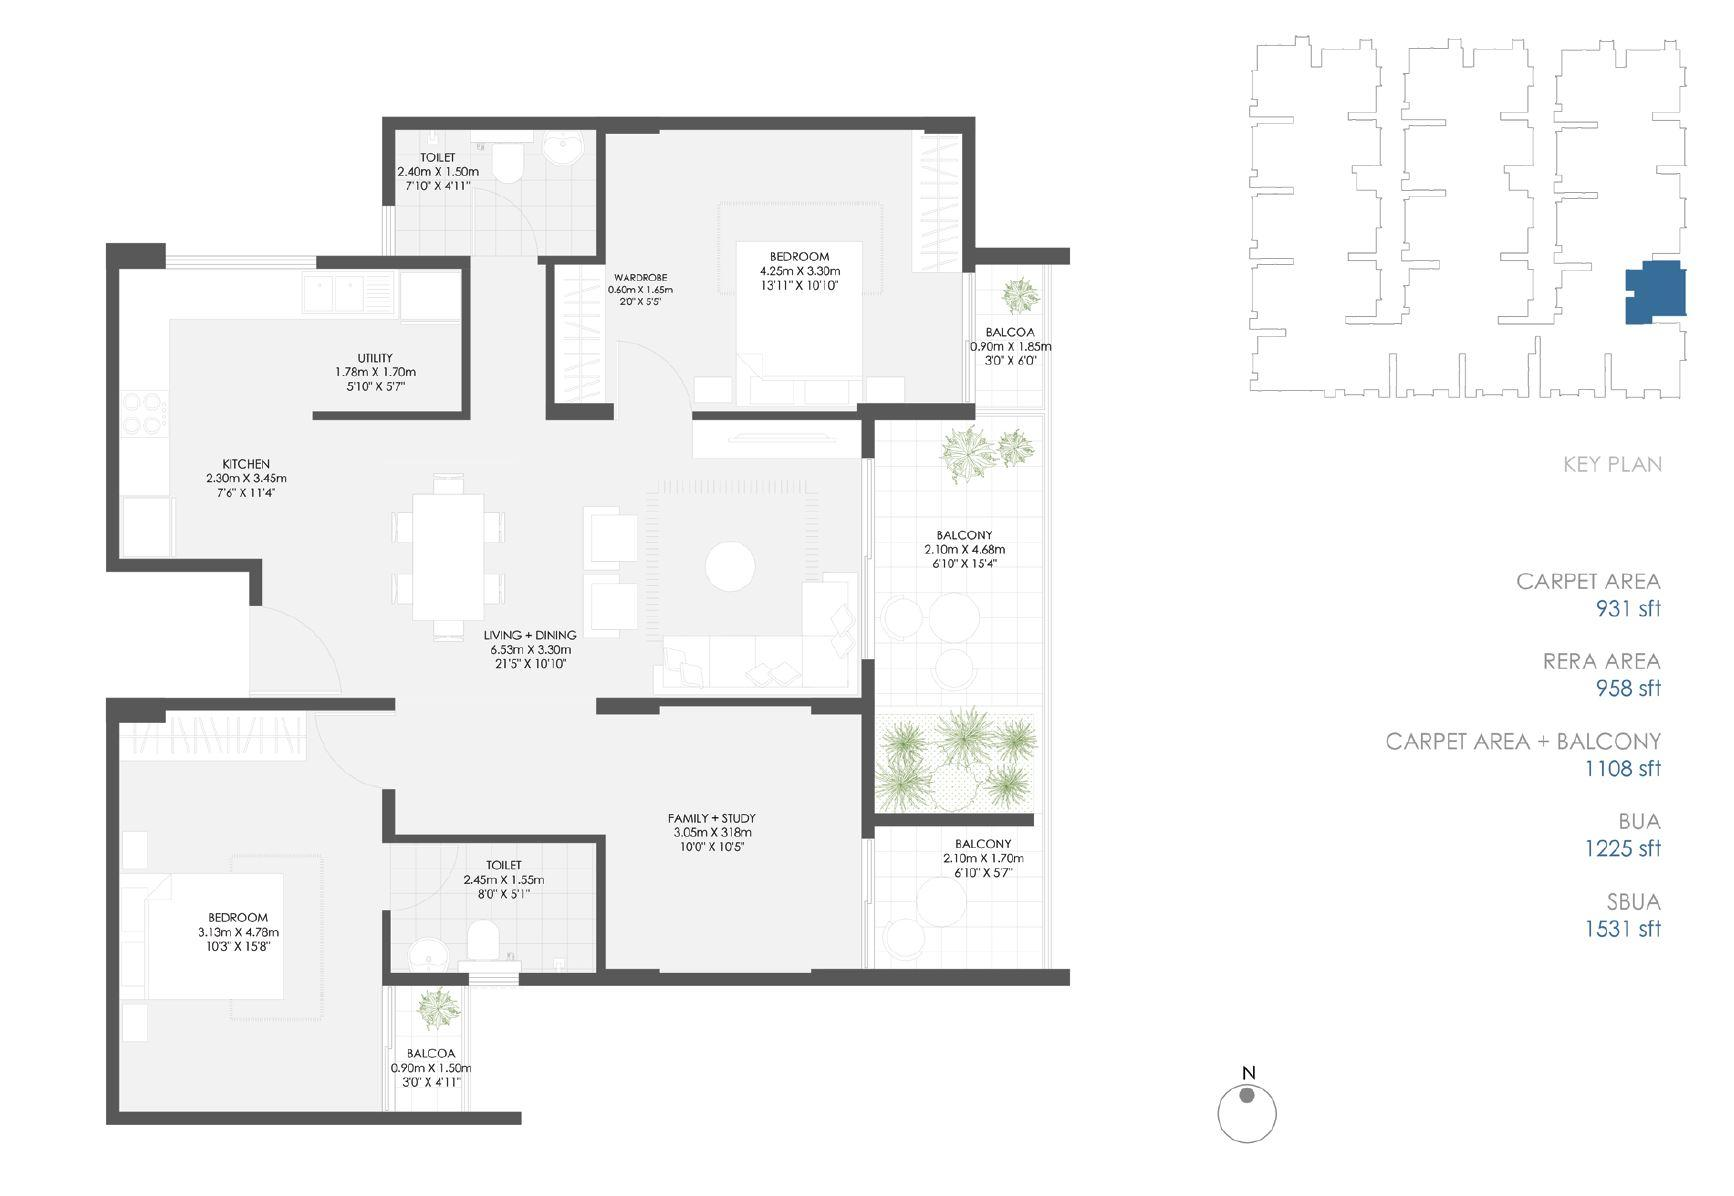Balcony: (874, 416, 1040, 813), (875, 827, 1042, 975)
Bed: (115, 868, 283, 1004), (737, 237, 860, 410)
Bedroom: (116, 713, 383, 1110), (605, 126, 967, 412)
Dining Room: (316, 421, 552, 684)
Dining table: (376, 462, 517, 635)
Kitchen: (119, 266, 304, 565)
Living Room: (557, 418, 864, 697)
Sofa: (654, 639, 854, 692), (800, 572, 854, 685), (581, 510, 636, 570), (580, 585, 642, 639)
Wardrobe: (117, 710, 304, 756), (910, 130, 965, 269), (552, 263, 605, 403)
balcoa: (971, 263, 1044, 408), (386, 983, 465, 1109)
commode: (489, 134, 528, 183), (464, 919, 499, 960)
door: (253, 609, 347, 697), (613, 333, 690, 416), (855, 460, 885, 655), (470, 183, 543, 259), (315, 715, 386, 786), (383, 842, 459, 909), (855, 831, 885, 969)
kitchen-slab: (120, 269, 174, 566), (119, 266, 403, 316)
sink: (308, 270, 401, 320), (408, 937, 452, 973), (545, 130, 584, 165)
stove: (113, 390, 177, 439)
study: (605, 710, 864, 967)
toilet: (383, 840, 596, 975), (386, 130, 598, 253)
tv: (729, 425, 835, 457)
utility: (304, 269, 462, 416)
